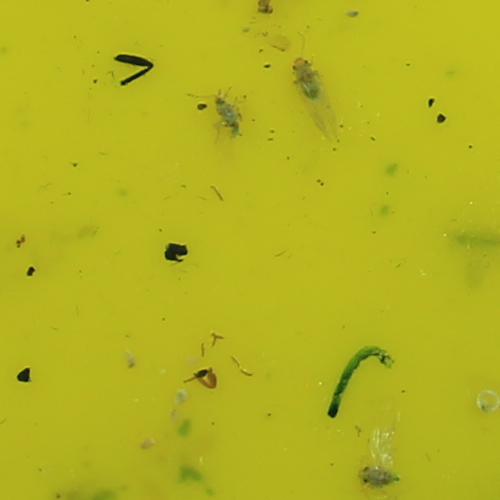Glycaspis: (291, 56, 321, 99), (356, 464, 405, 485)
